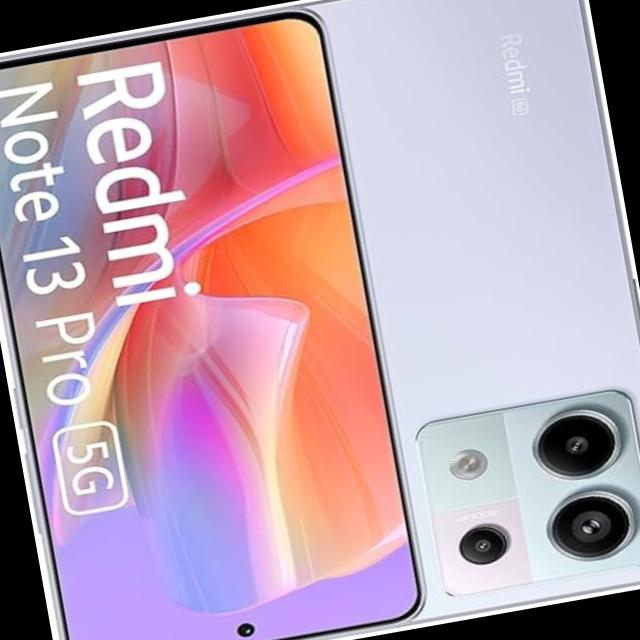mobile_phone: (0, 10, 428, 640), (230, 0, 640, 621)
